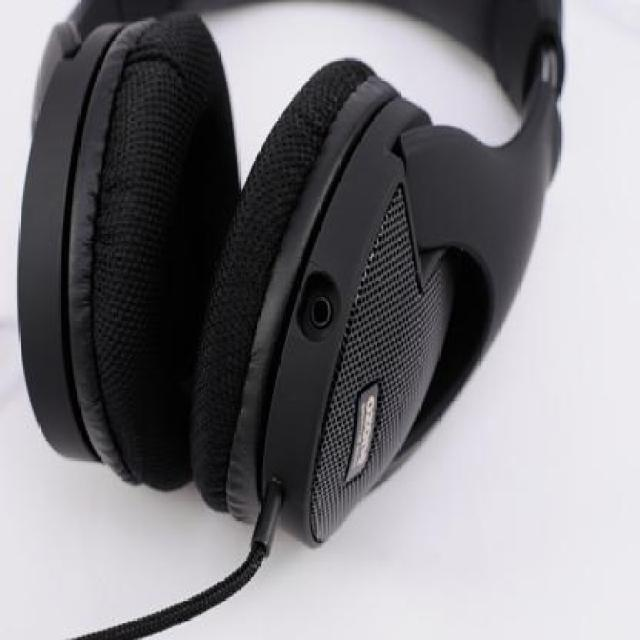earphone: (11, 7, 516, 558)
